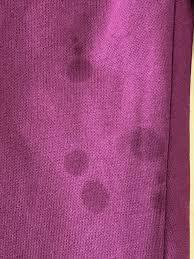mustard: (126, 135, 165, 162), (62, 45, 90, 81), (79, 183, 109, 216), (144, 167, 164, 212), (69, 148, 87, 173)
